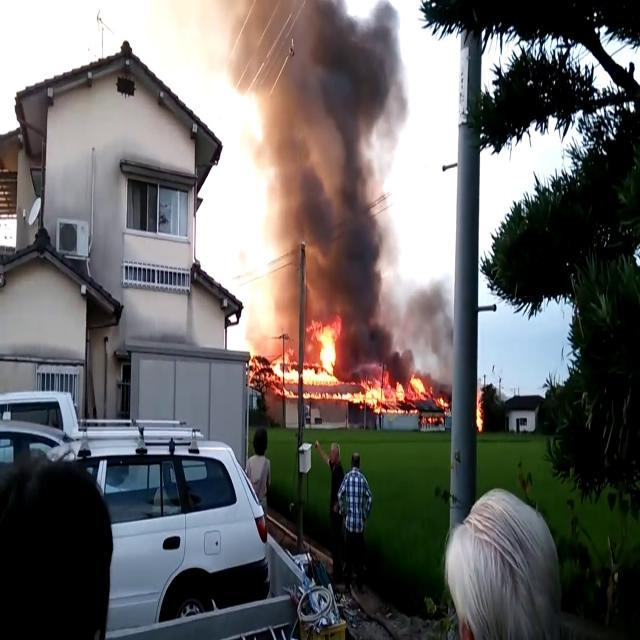Fire: (248, 328, 338, 388), (283, 384, 429, 410), (476, 398, 484, 428), (438, 394, 451, 411)
